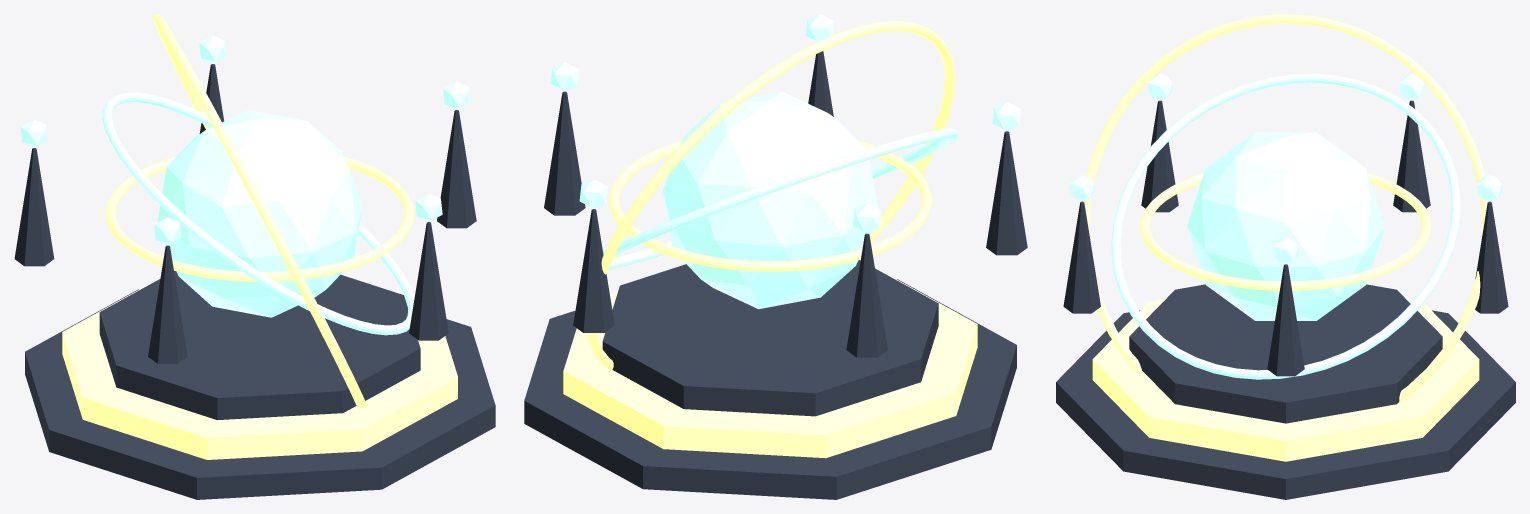
Rendered from gpu-blender-v21.glb.
3 views of the same model, side by side, from view 1: azimuth 30°, elevation 25°; view 2: azimuth 150°, elevation 25°; view 3: azimuth 270°, elevation 25° (orthographic). The views are drawn at different scales.
Visible parts, largest first — view 1: Cylinder.002, SovereignCore_aeo-graph-engine, Cylinder, Cylinder.001, Torus.001, Torus.002, Torus, Cone.002, Cone.004, Cone.003, Cone, Icosphere.001 (+5 smaller); view 2: Cylinder.002, SovereignCore_aeo-graph-engine, Cylinder, Cylinder.001, Torus.002, Torus, Torus.001, Cone.003, Cone.002, Cone, Cone.001, Cone.004 (+5 smaller); view 3: SovereignCore_aeo-graph-engine, Cylinder.002, Cylinder, Cylinder.001, Torus.001, Torus.002, Torus, Cone, Cone.004, Cone.001, Cone.002, Cone.003 (+5 smaller).
Part boxes in pixels (<box>): Cylinder.002: <box>99,271,420,420</box>; SovereignCore_aeo-graph-engine: <box>157,110,362,317</box>; Cylinder: <box>25,289,495,499</box>; Cylinder.001: <box>62,279,457,459</box>; Torus.001: <box>102,92,414,335</box>; Torus.002: <box>152,14,366,407</box>; Torus: <box>105,156,414,281</box>; Cone.002: <box>14,148,54,266</box>; Cone.004: <box>409,222,448,340</box>; Cone.003: <box>148,245,187,363</box>; Cone: <box>437,110,476,228</box>; Icosphere.001: <box>199,36,226,63</box>; Cylinder.002: <box>602,260,938,416</box>; SovereignCore_aeo-graph-engine: <box>663,91,877,309</box>; Cylinder: <box>524,279,1016,499</box>; Cylinder.001: <box>563,269,977,458</box>; Torus.002: <box>587,20,954,370</box>; Torus: <box>609,140,932,271</box>; Torus.001: <box>603,128,957,269</box>; Cone.003: <box>986,131,1027,255</box>; Cone.002: <box>846,233,887,357</box>; Cone: <box>544,91,585,215</box>; Cone.001: <box>573,209,614,332</box>; Cone.004: <box>808,51,833,116</box>; SovereignCore_aeo-graph-engine: <box>1186,132,1385,320</box>; Cylinder.002: <box>1129,284,1442,423</box>; Cylinder: <box>1056,310,1515,499</box>; Cylinder.001: <box>1092,298,1479,461</box>; Torus.001: <box>1111,73,1460,379</box>; Torus.002: <box>1083,14,1488,403</box>; Torus: <box>1140,173,1431,290</box>; Cone: <box>1267,264,1304,376</box>; Cone.004: <box>1063,201,1100,313</box>; Cone.001: <box>1475,201,1508,313</box>; Cone.002: <box>1393,100,1430,212</box>; Cone.003: <box>1141,100,1178,212</box>.
Bounding box in the file's own units: 4.41 × 3.72 × 4.4.
